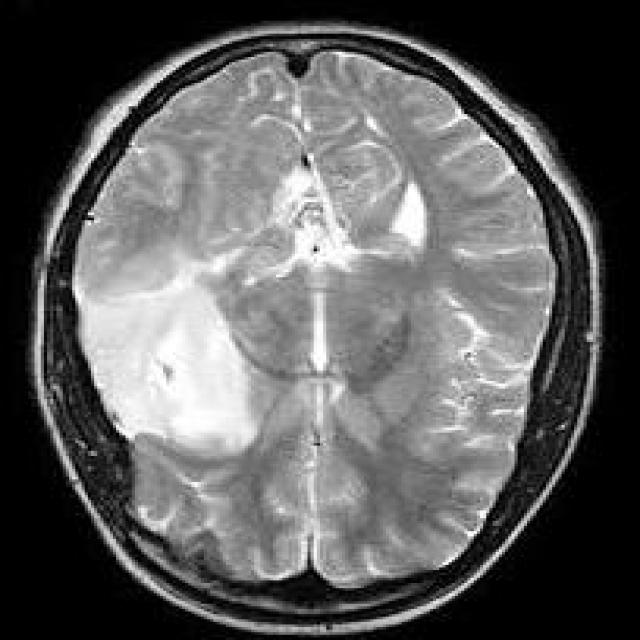Tumor-Cell: (71, 266, 299, 473)
